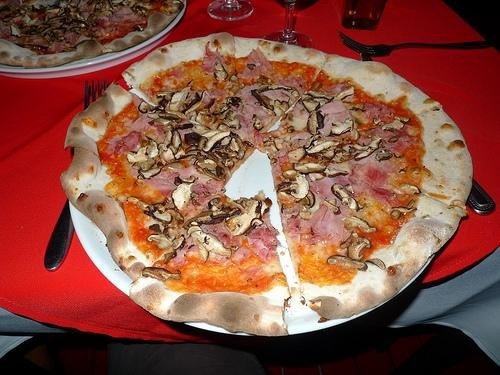mushroom: (224, 199, 262, 236), (192, 230, 231, 263), (275, 170, 310, 200), (331, 183, 366, 212), (246, 200, 270, 234), (326, 255, 368, 272), (346, 236, 372, 262), (183, 89, 208, 116), (202, 130, 230, 154), (341, 215, 377, 233), (172, 182, 194, 211), (354, 138, 382, 160), (144, 205, 173, 224), (168, 87, 190, 112), (142, 267, 181, 281), (250, 88, 274, 110), (294, 159, 326, 175), (146, 233, 174, 250), (307, 141, 339, 155), (330, 118, 354, 136), (210, 206, 242, 219), (126, 146, 150, 163), (330, 86, 355, 102), (391, 199, 418, 213), (304, 90, 334, 102), (314, 146, 336, 162), (381, 120, 405, 132), (400, 182, 422, 195), (288, 147, 307, 162), (197, 156, 216, 171), (214, 62, 228, 82), (136, 158, 156, 172), (137, 168, 160, 180), (235, 138, 247, 160), (163, 128, 175, 149), (302, 99, 320, 113), (146, 140, 160, 158), (163, 227, 179, 242), (212, 104, 231, 116), (274, 99, 290, 113), (376, 149, 392, 163), (39, 26, 57, 38), (201, 130, 222, 140), (252, 114, 264, 131), (161, 147, 175, 161), (228, 114, 240, 130), (211, 150, 230, 160), (156, 92, 175, 102), (224, 58, 237, 72), (208, 198, 220, 211), (158, 113, 180, 120), (316, 112, 324, 131), (275, 92, 290, 102), (219, 148, 237, 156), (222, 158, 234, 170), (344, 183, 354, 196), (186, 251, 202, 259), (393, 116, 411, 123), (86, 14, 98, 24), (64, 5, 79, 13), (73, 18, 88, 26), (158, 97, 168, 109), (350, 128, 359, 141), (231, 138, 239, 151), (162, 125, 174, 131), (169, 146, 178, 154), (60, 2, 68, 10), (136, 7, 143, 16), (184, 98, 192, 105), (373, 117, 381, 124), (160, 158, 166, 166), (100, 4, 106, 12), (132, 4, 138, 11), (378, 122, 386, 126)
